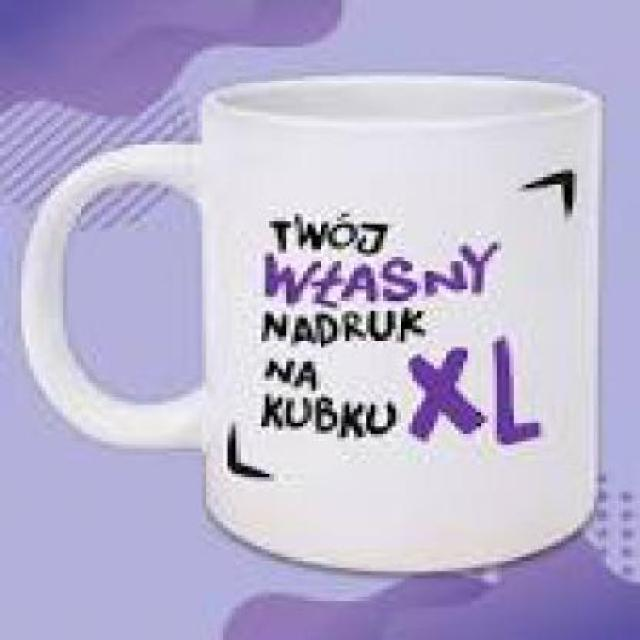cup: (17, 69, 615, 582)
